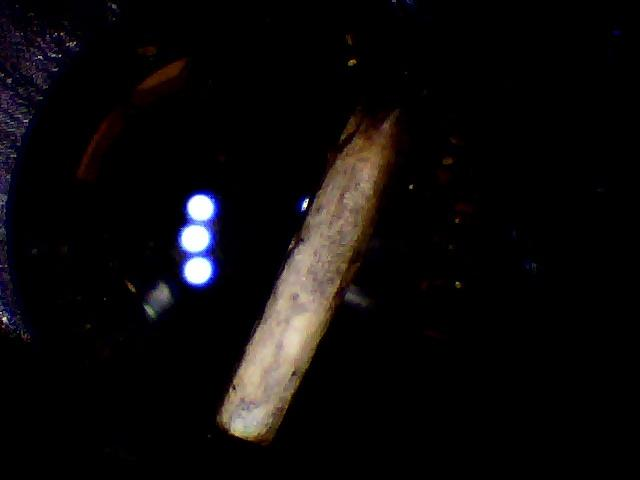megot: (202, 96, 415, 445)
